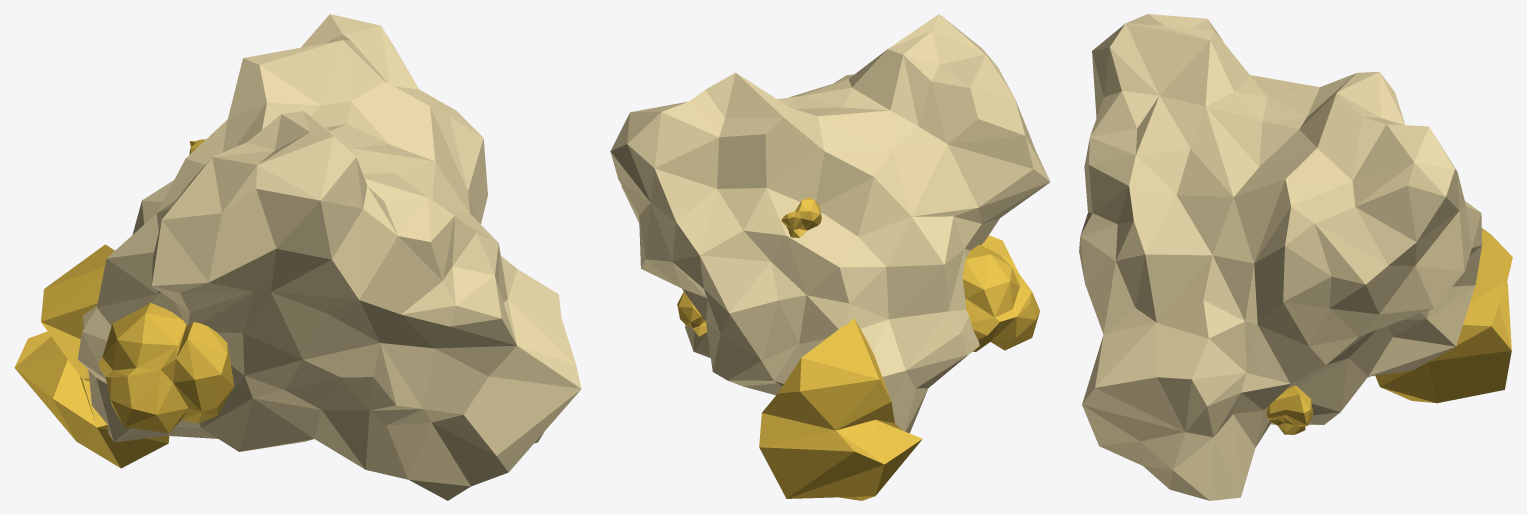
Rendered from MetalOre (25).fbx.
3 views of the same model, side by side, from view 1: azimuth 30°, elevation 25°; view 2: azimuth 150°, elevation 25°; view 3: azimuth 270°, elevation 25° (orthographic). The views are drawn at different scales.
Visible parts, largest first — view 1: Asteroid380; view 2: Asteroid380; view 3: Asteroid380.
Boxes of the visible parts, bbox=[...] form: Asteroid380: bbox=[14, 14, 581, 500]; Asteroid380: bbox=[610, 14, 1050, 500]; Asteroid380: bbox=[1079, 14, 1512, 500].
Bounding box in the file's own units: 381 × 365 × 353.
